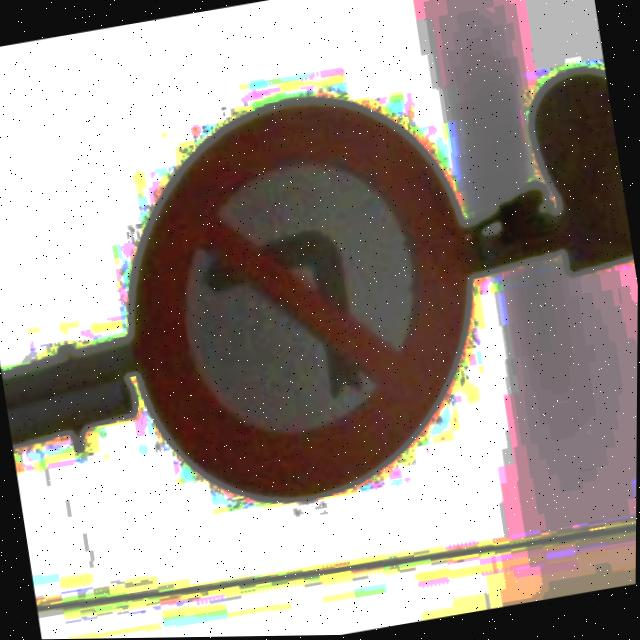noturnleft: (93, 70, 508, 527)
